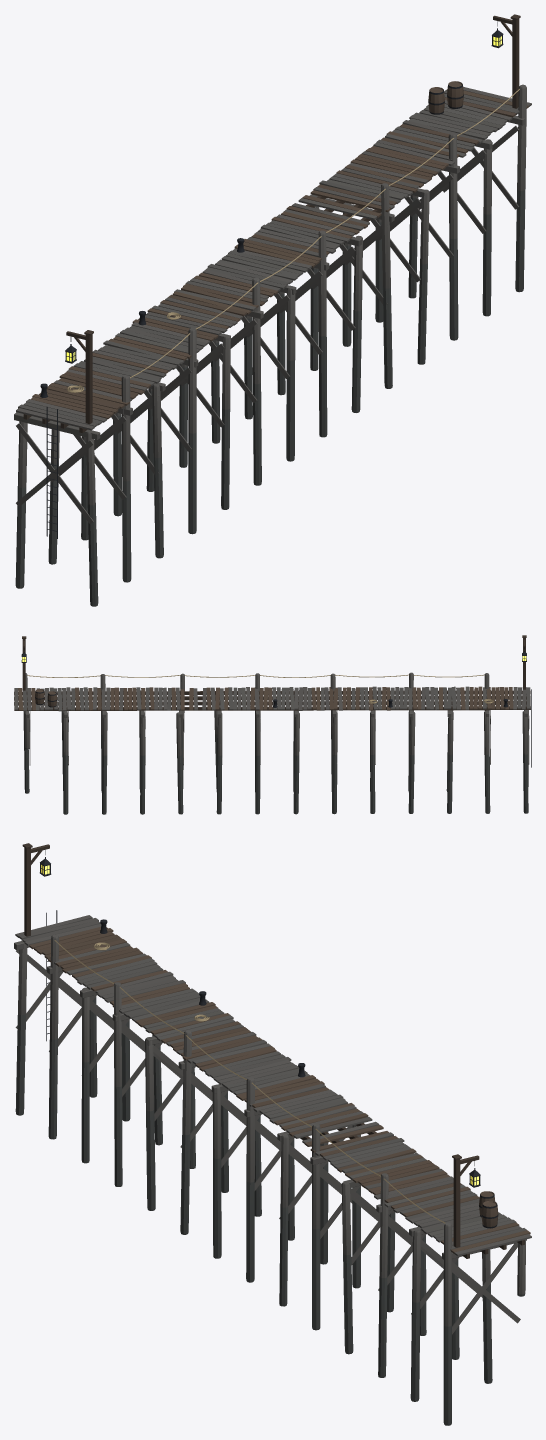
Rendered from pier.glb.
3 renders of one model, top to bottom at view 1: azimuth 30°, elevation 25°; view 2: azimuth 150°, elevation 25°; view 3: azimuth 270°, elevation 25°, orthographic. The views are drawn at different scales.
Visible parts, largest first — view 1: isl_pier; view 2: isl_pier; view 3: isl_pier.
Part boxes in pixels (left/top/right/bottom): isl_pier: left=14, top=14, right=531, bottom=606; isl_pier: left=14, top=635, right=531, bottom=814; isl_pier: left=14, top=843, right=531, bottom=1425.
Bounding box in the file's own units: 30.27 × 11.16 × 19.52.
